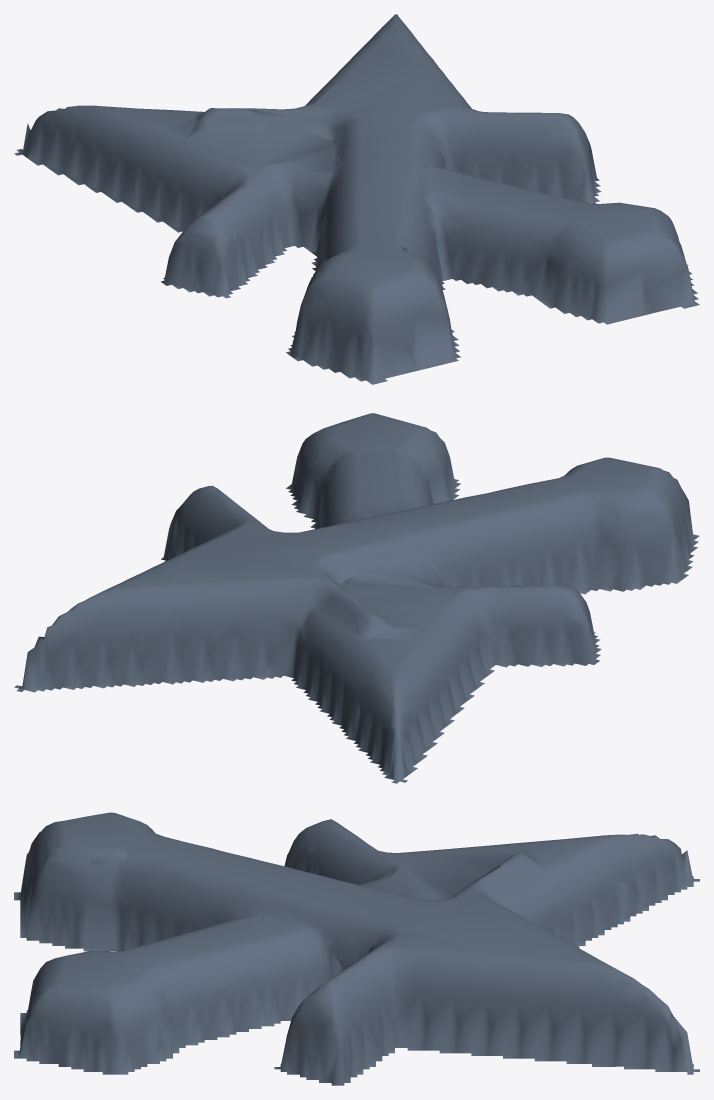
Rendered from decoration-rogue-draco.glb.
3 renders of one model, top to bottom at view 1: azimuth 30°, elevation 25°; view 2: azimuth 150°, elevation 25°; view 3: azimuth 270°, elevation 25°, orthographic. The views are drawn at different scales.
Visible parts, largest first — view 1: decoration_rogue; view 2: decoration_rogue; view 3: decoration_rogue.
Part boxes in pixels (x1,y1,x2,y2): decoration_rogue: (14, 14, 699, 384); decoration_rogue: (14, 413, 699, 783); decoration_rogue: (14, 812, 699, 1085).
Bounding box in the file's own units: 0.1476 × 0.026 × 0.1944.
